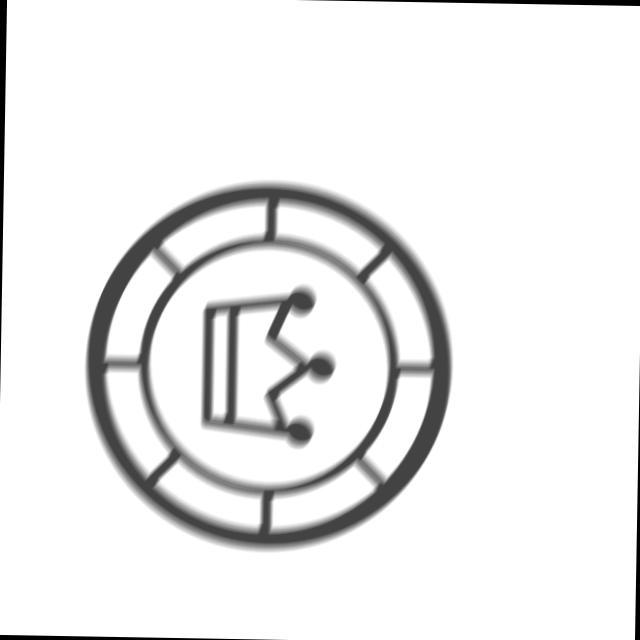coin: (72, 170, 463, 561)
